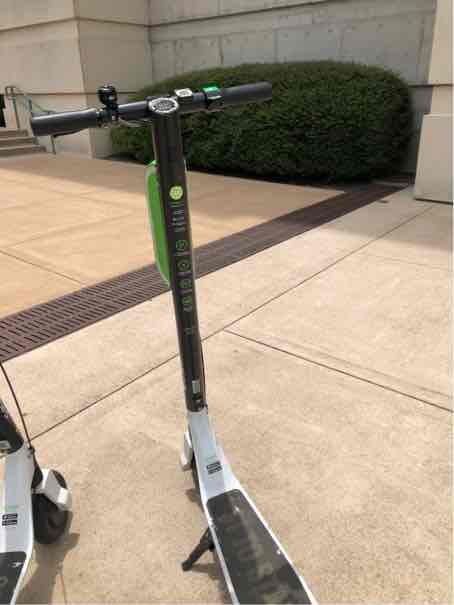scooter: (25, 85, 368, 605)
